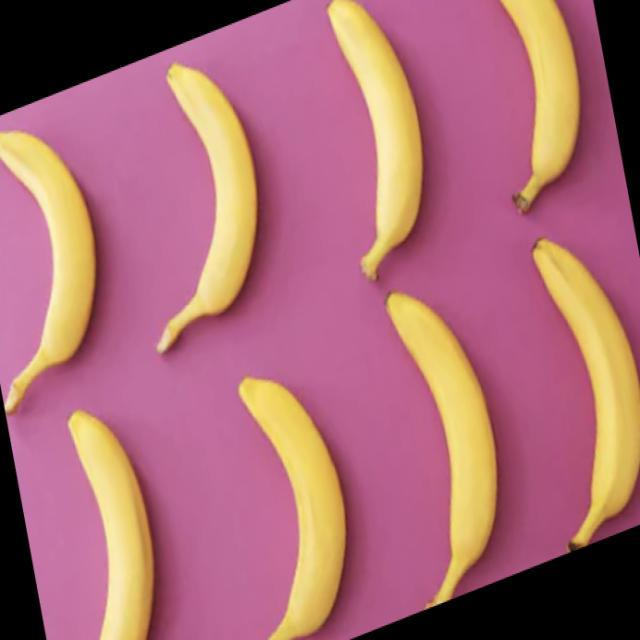Banana: (384, 290, 498, 609), (530, 236, 639, 552), (155, 60, 258, 354), (237, 375, 347, 639), (325, 0, 424, 281), (0, 128, 96, 414), (66, 408, 155, 639), (491, 0, 581, 214)
